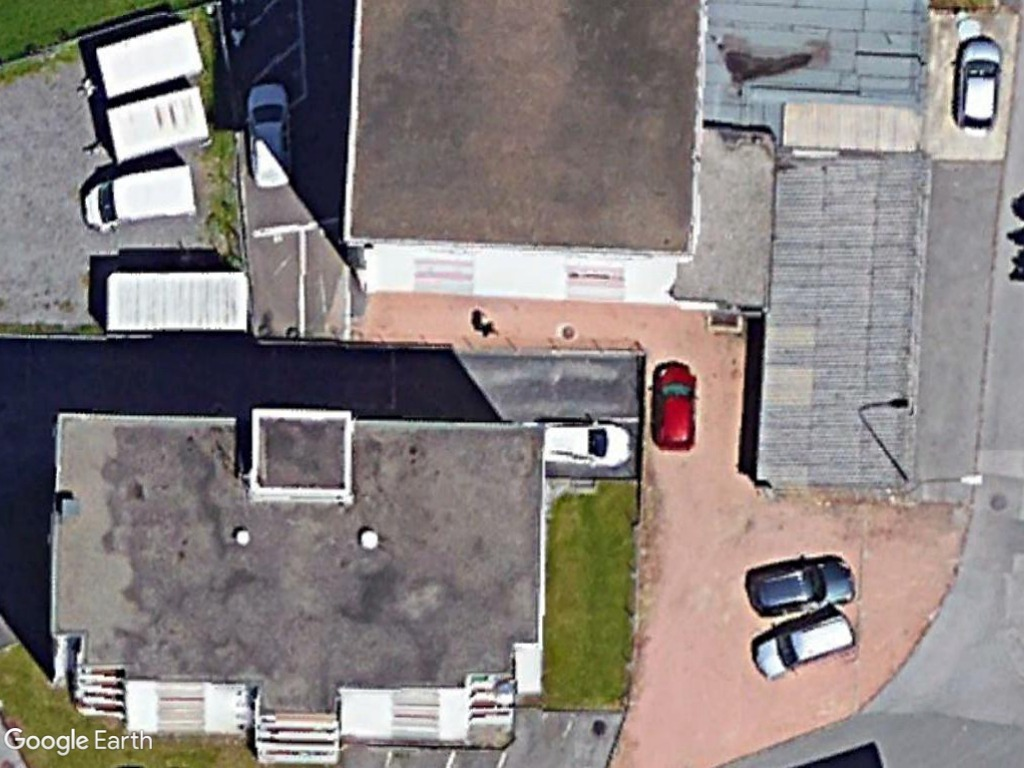car: (748, 612, 864, 683), (745, 559, 863, 617), (245, 82, 301, 198), (951, 35, 1004, 137), (651, 360, 701, 454)
van: (81, 157, 197, 233)
